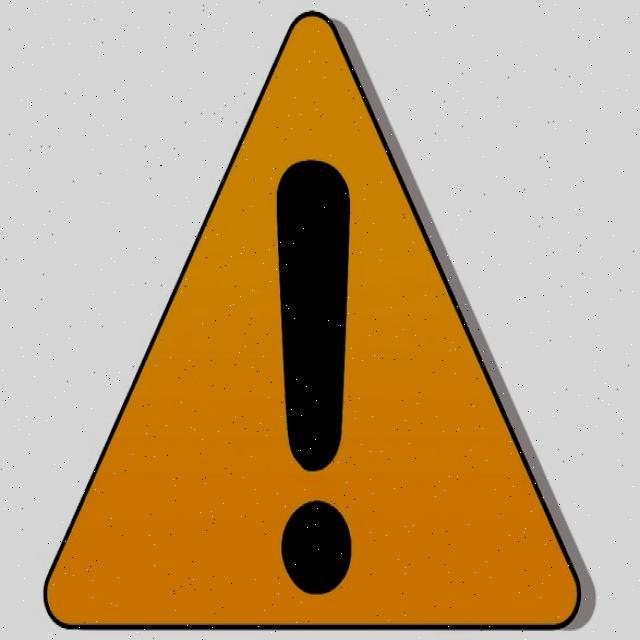Hati-Hati: (41, 8, 584, 632)
